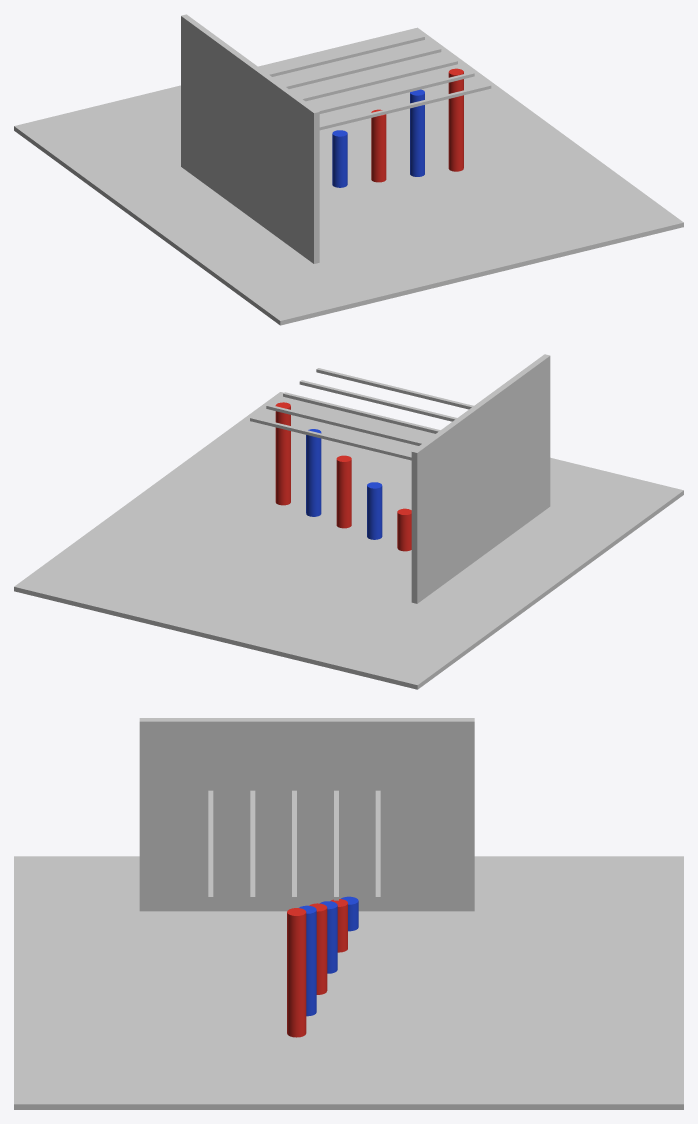
File: sun_shadow.gltf
3 views of the same model, one above another, from view 1: azimuth 30°, elevation 25°; view 2: azimuth 150°, elevation 25°; view 3: azimuth 270°, elevation 25° (orthographic). The views are drawn at different scales.
Visible parts, largest first — view 1: Exhibit; view 2: Exhibit; view 3: Exhibit.
Boxes of the visible parts, left/top/right/bottom form: Exhibit: left=14, top=14, right=683, bottom=325; Exhibit: left=14, top=354, right=683, bottom=689; Exhibit: left=14, top=718, right=683, bottom=1109.
Size of the model in its own units: 14 by 5.15 by 16.
